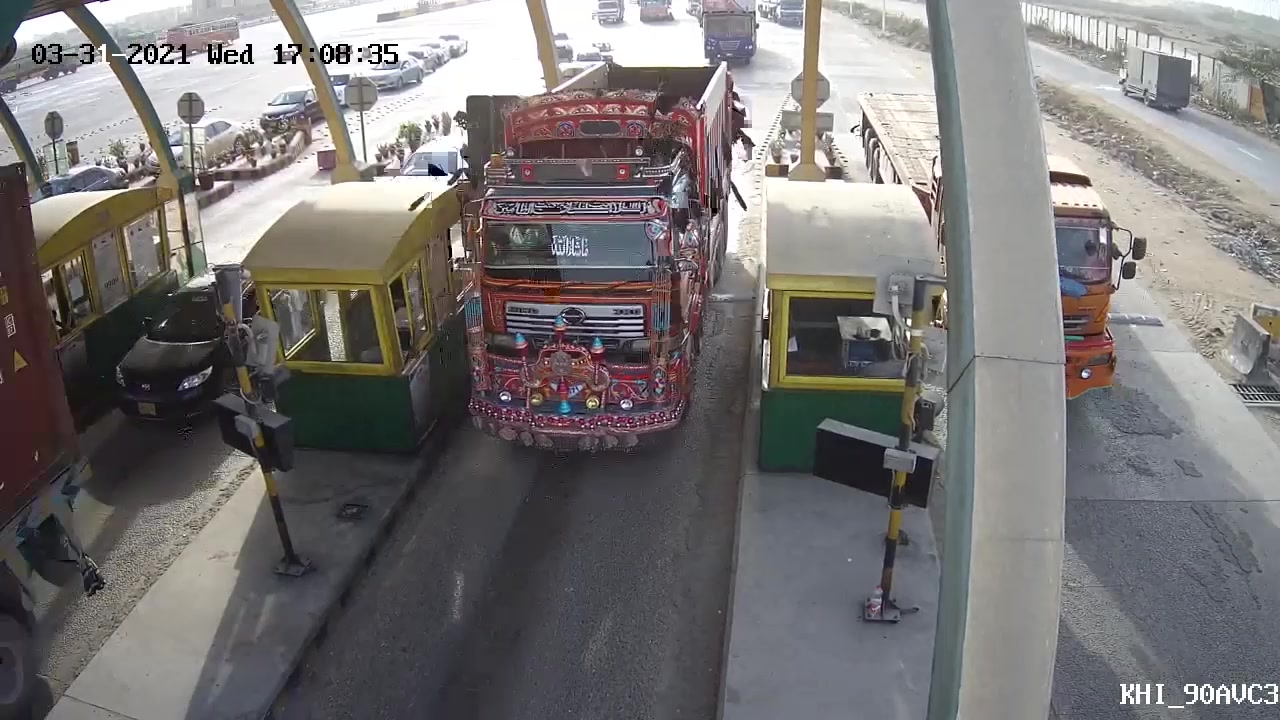F5: (446, 54, 754, 471)
